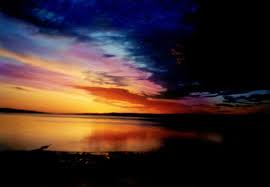sea: (8, 110, 261, 181)
sky: (4, 2, 262, 115)
